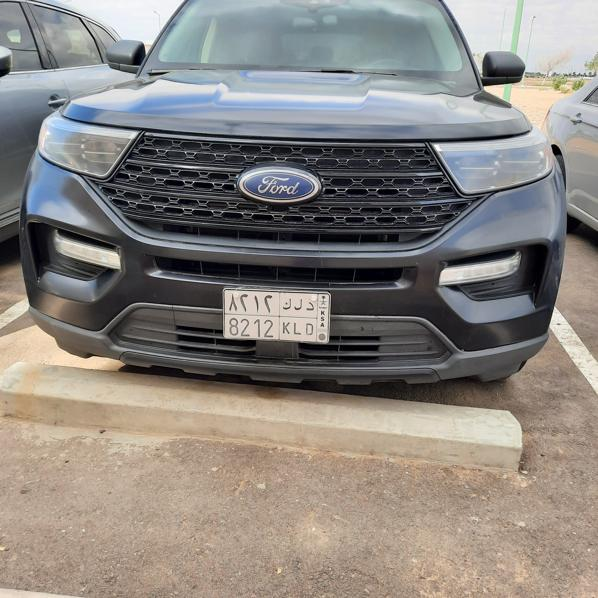numberplate: (224, 290, 330, 342)
